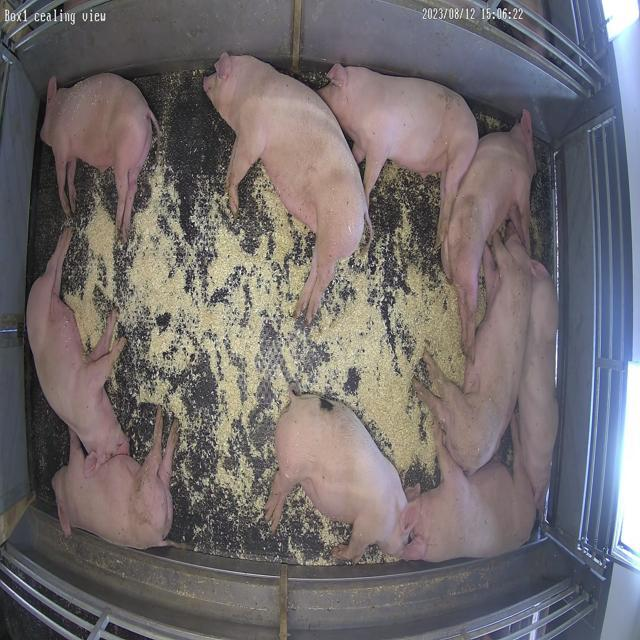Pig: (204, 53, 368, 324), (319, 64, 480, 240), (417, 234, 533, 472), (26, 228, 129, 474), (265, 392, 409, 564), (444, 110, 537, 346), (40, 74, 159, 242), (401, 427, 538, 562), (52, 410, 177, 550), (514, 260, 559, 512)
